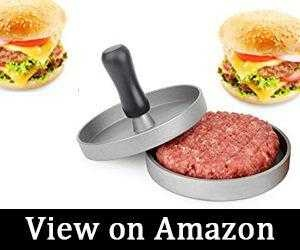hamburger: (213, 6, 300, 105), (1, 1, 73, 92)
